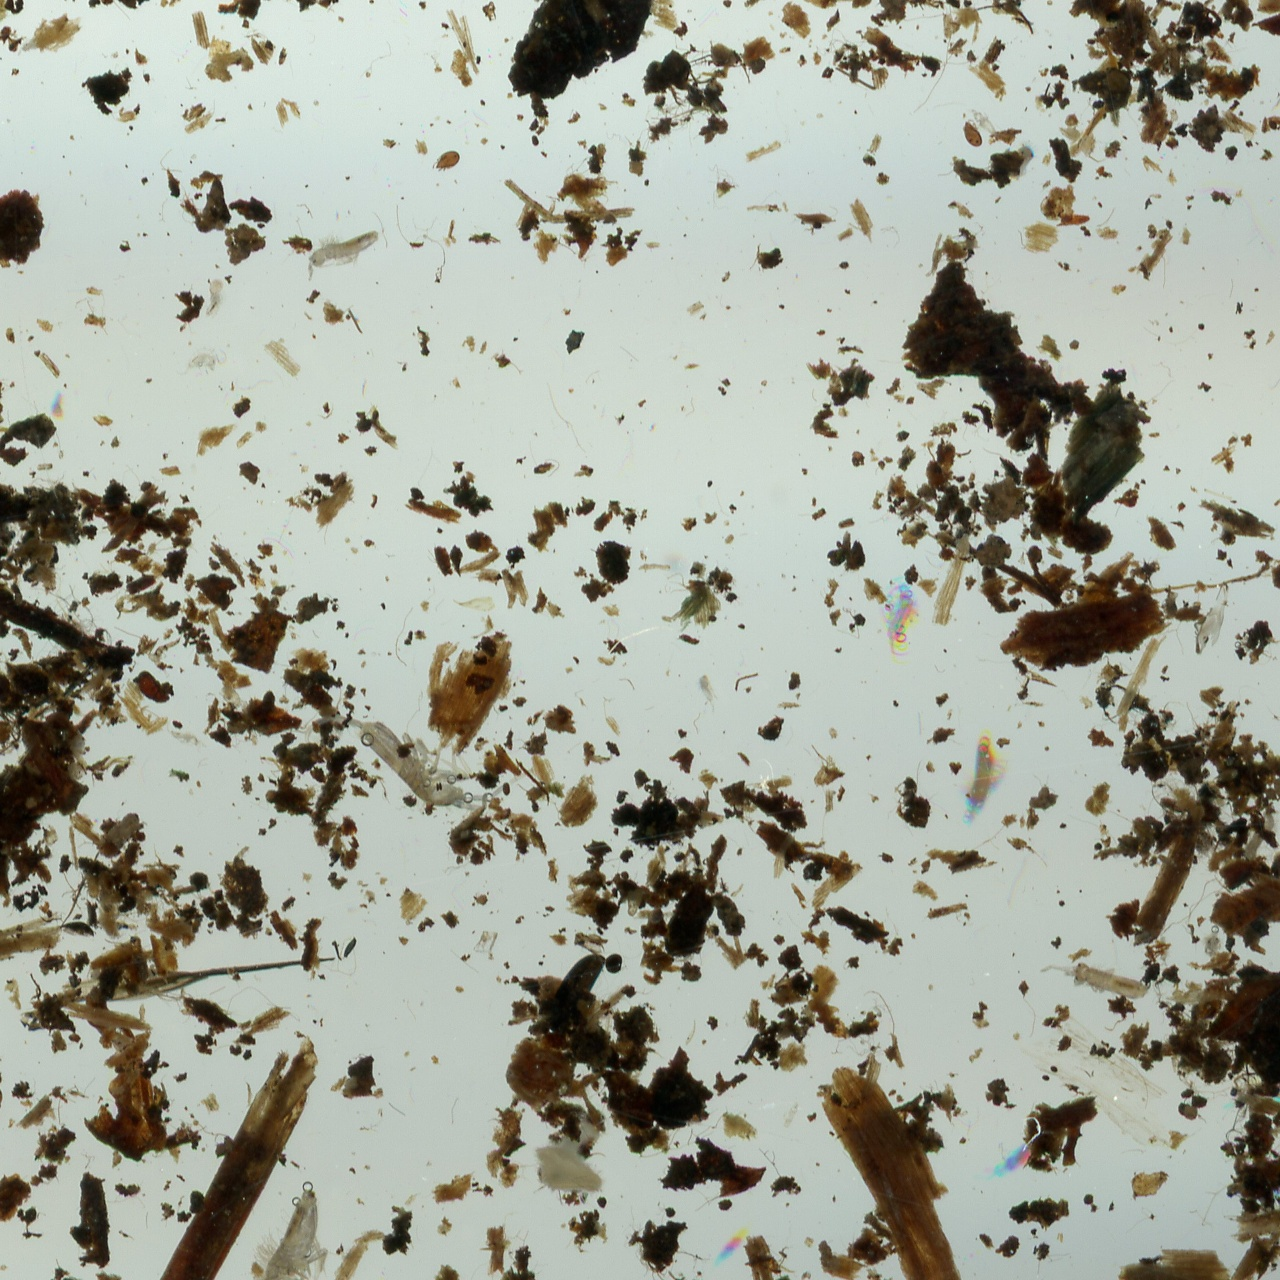arthropod: (291, 633, 538, 874), (240, 1180, 357, 1280), (1039, 949, 1151, 1008), (956, 730, 1015, 835), (295, 223, 387, 282), (883, 580, 922, 662), (1238, 805, 1279, 864), (170, 348, 230, 378), (964, 103, 1003, 141), (165, 723, 210, 753), (203, 276, 227, 322), (696, 673, 721, 715), (1265, 699, 1280, 757), (12, 37, 45, 61), (1199, 932, 1225, 961), (433, 150, 461, 172), (1159, 934, 1172, 968)
